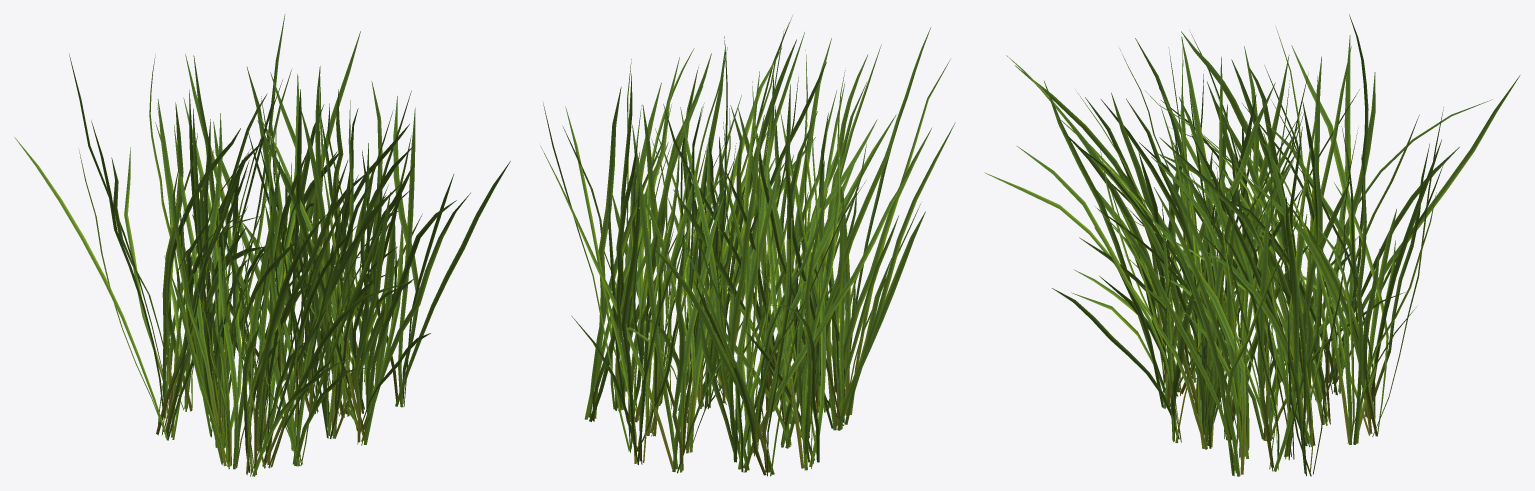
File: grass.glb
3 views of the same model, side by side, from view 1: azimuth 30°, elevation 25°; view 2: azimuth 150°, elevation 25°; view 3: azimuth 270°, elevation 25° (orthographic). The views are drawn at different scales.
Parts seen in each view (by area): view 1: Wild Grass Patch 3; view 2: Wild Grass Patch 3; view 3: Wild Grass Patch 3.
Boxes of the visible parts, x1=… form: Wild Grass Patch 3: x1=14, y1=14, x2=510, y2=476; Wild Grass Patch 3: x1=540, y1=15, x2=955, y2=476; Wild Grass Patch 3: x1=984, y1=14, x2=1520, y2=476.
Bounding box in the file's own units: 0.8712 × 0.9434 × 1.22.
Materials: 2 (2 with a texture image).
